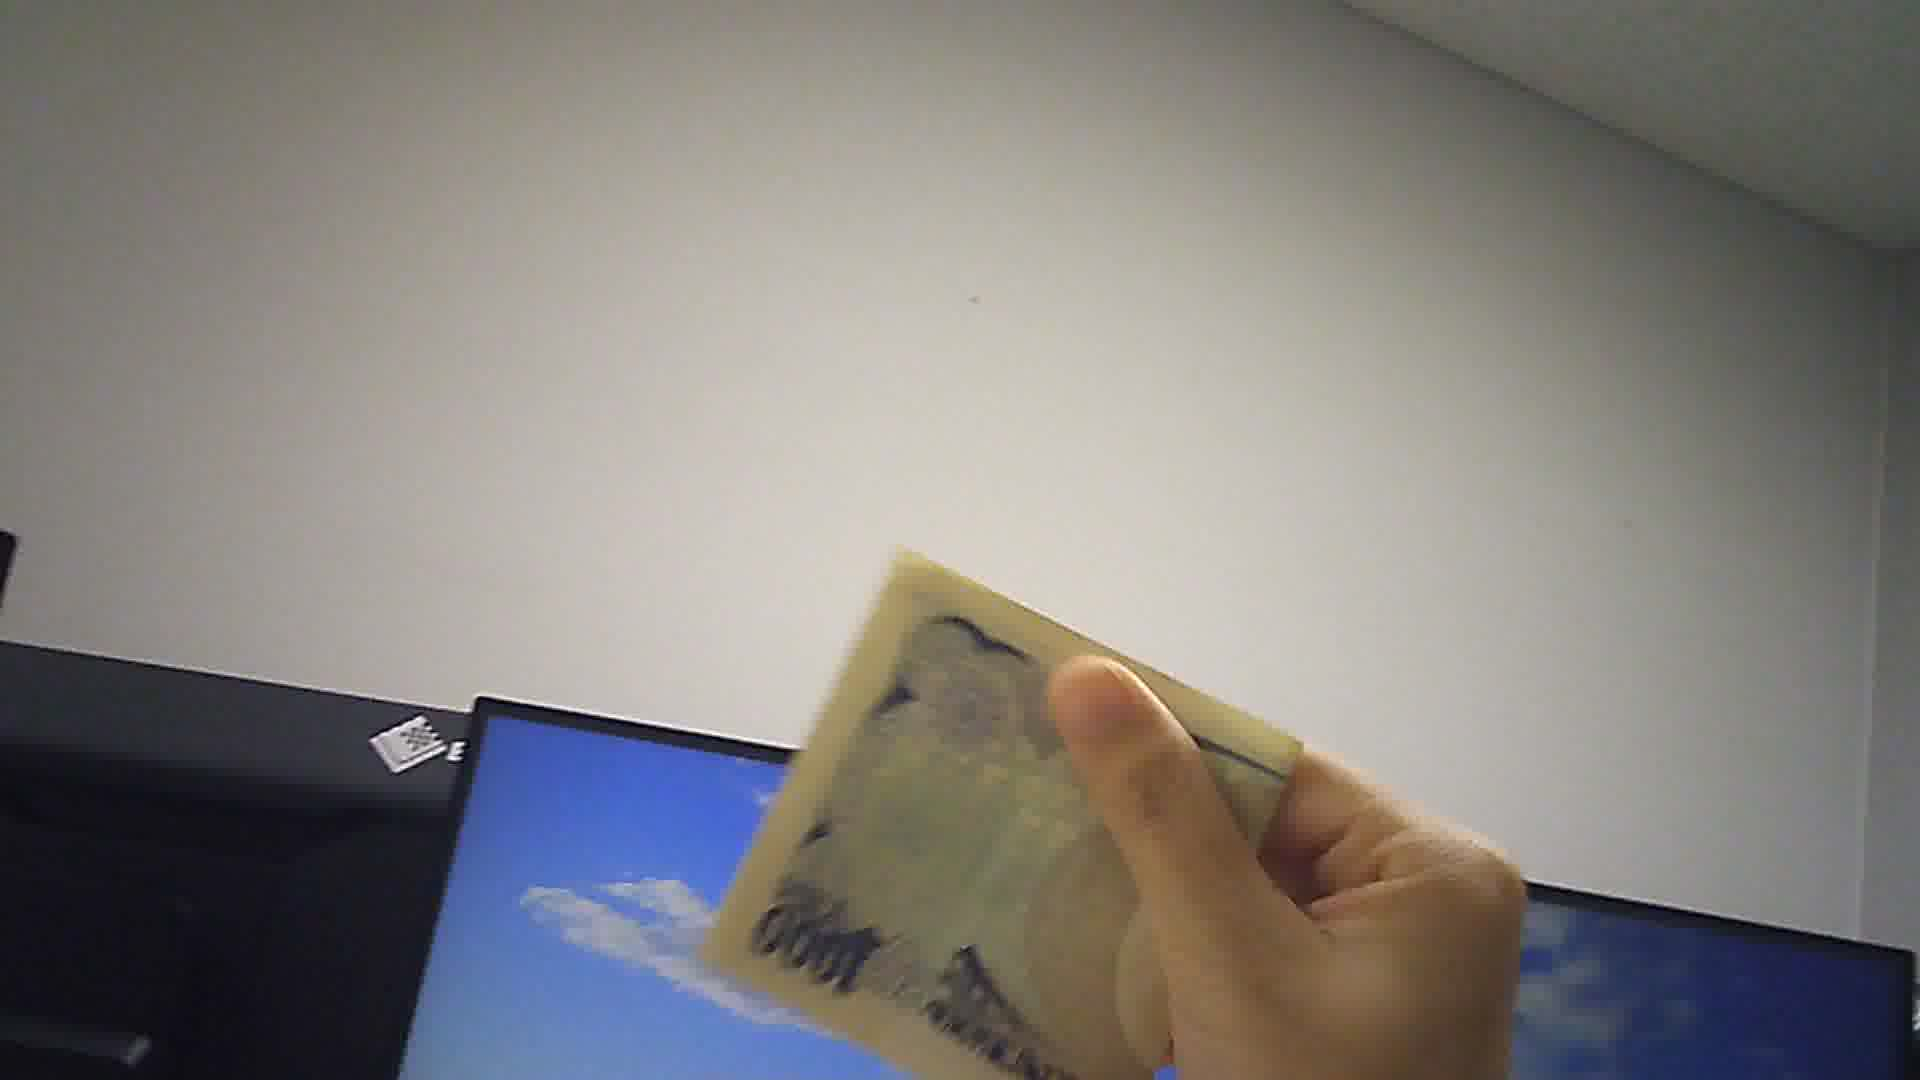1,000 Yen: (692, 556, 1292, 1064)
